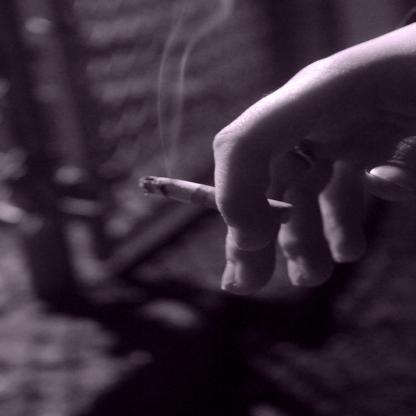smoking: (138, 176, 295, 225)
